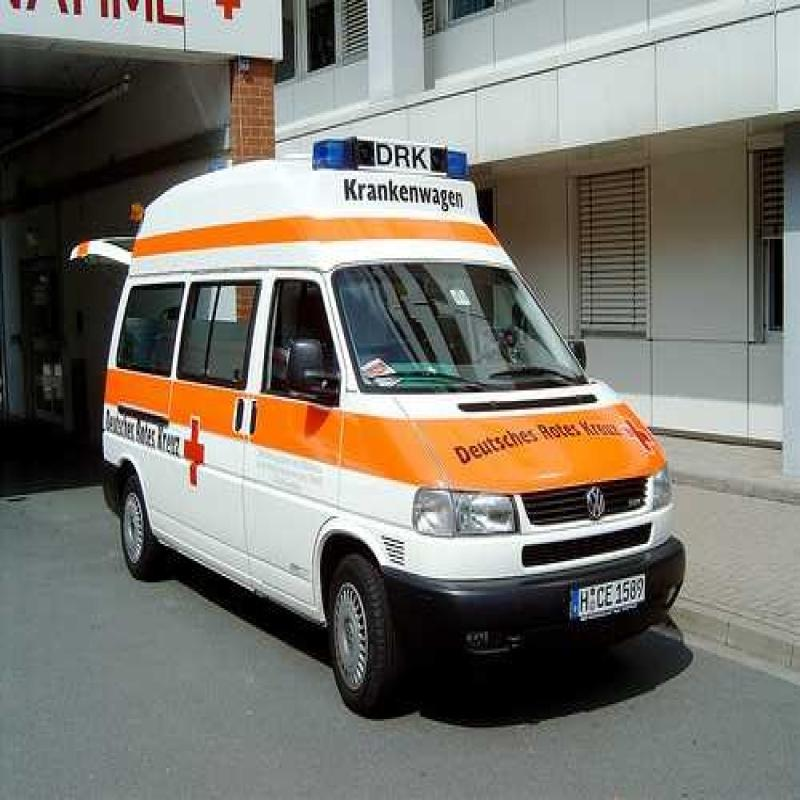AmbulanceSiren: (308, 105, 490, 197)
